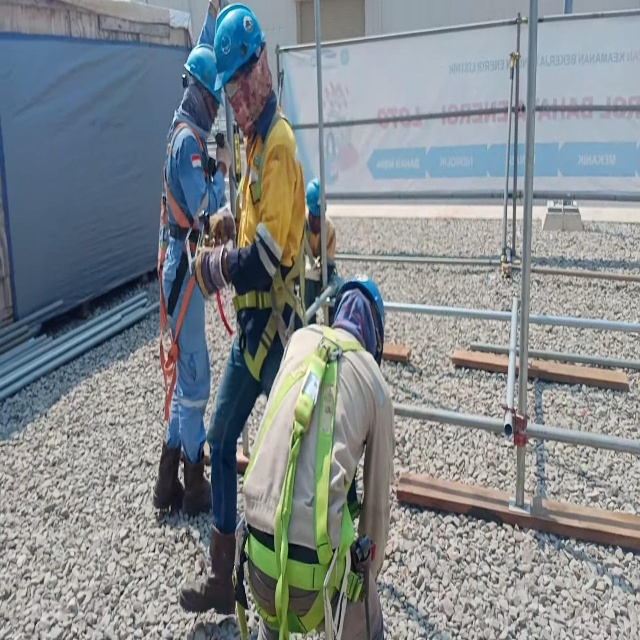Arnes_seguridad: (233, 322, 375, 640), (230, 112, 306, 380), (156, 116, 204, 444)
